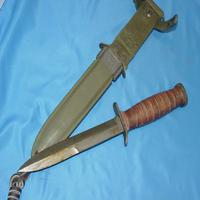knife: (25, 1, 167, 155), (16, 83, 191, 176)
